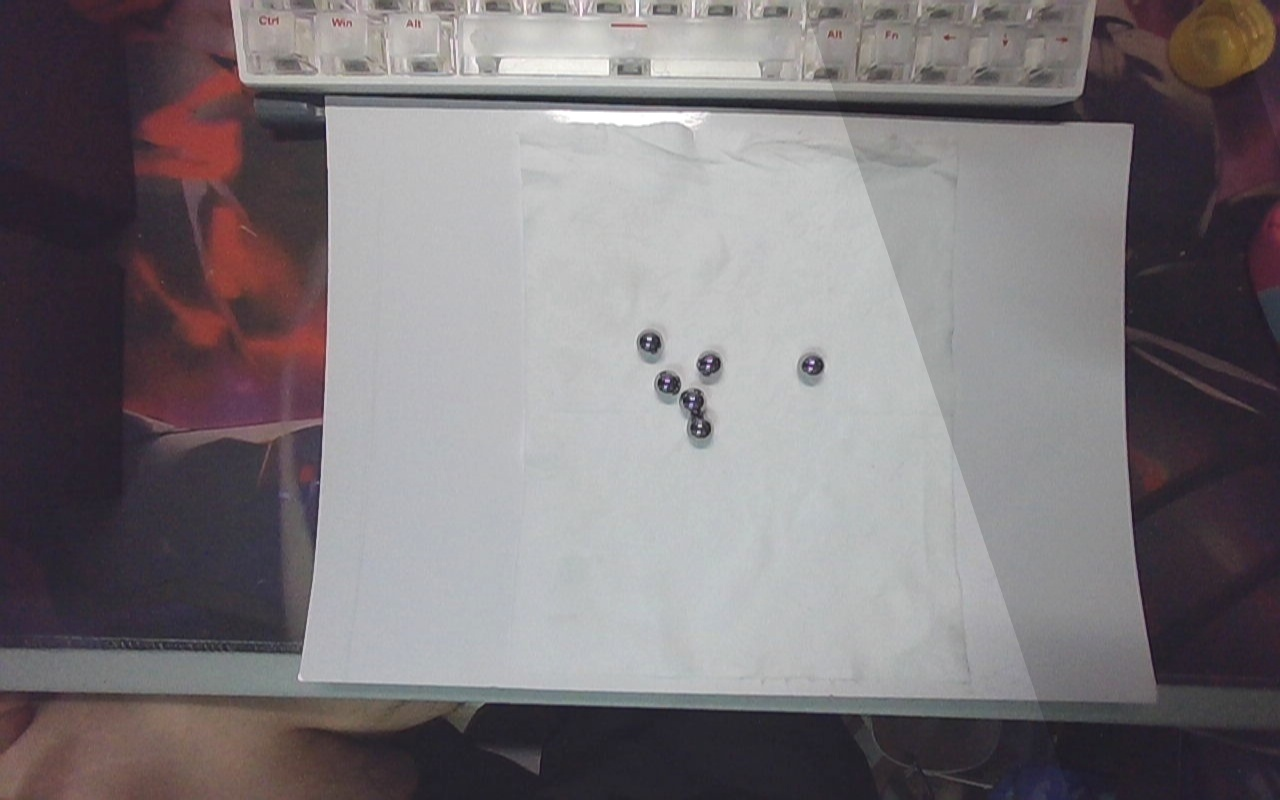ball: (634, 325, 668, 363), (795, 347, 828, 385), (694, 347, 726, 385), (653, 367, 684, 402), (685, 410, 715, 446), (677, 385, 710, 416)
